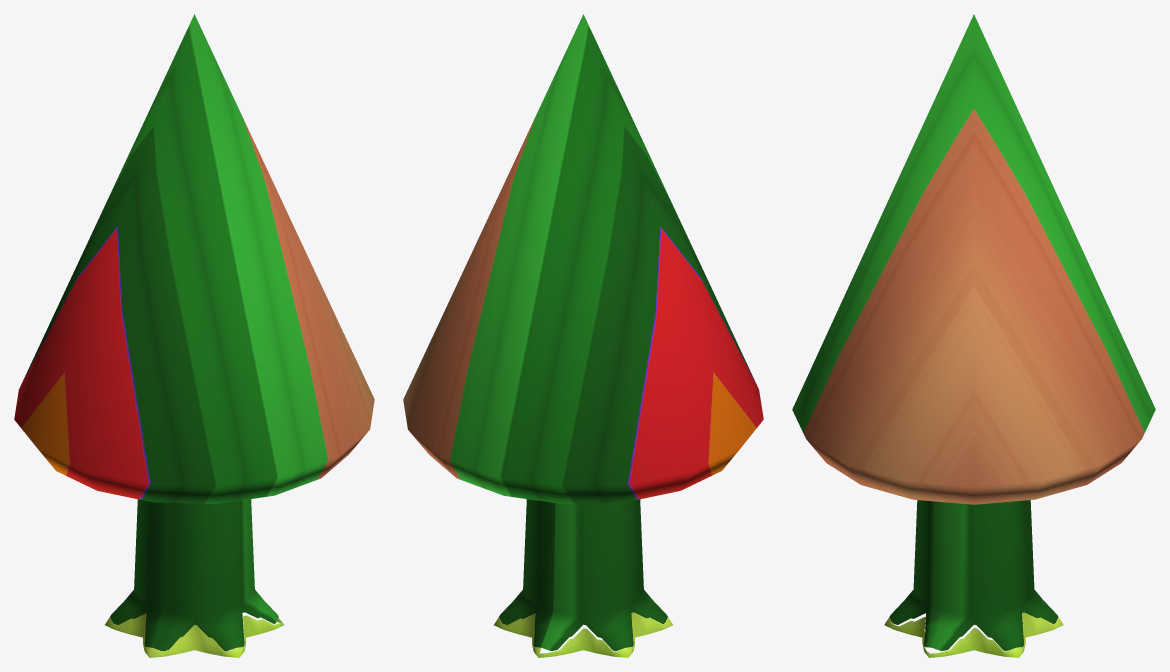
Rendered from Furniture_Plants_36.fbx.
The picture shows the model from 3 angles, left to right: view 1: azimuth 30°, elevation 25°; view 2: azimuth 150°, elevation 25°; view 3: azimuth 270°, elevation 25°; orthographic projection.
Parts seen in each view (by area): view 1: Furniture_Plants_36; view 2: Furniture_Plants_36; view 3: Furniture_Plants_36.
Boxes of the visible parts, bbox=[...] form: Furniture_Plants_36: bbox=[14, 14, 374, 657]; Furniture_Plants_36: bbox=[403, 14, 763, 657]; Furniture_Plants_36: bbox=[792, 14, 1155, 657].
Bounding box in the file's own units: 225 × 417 × 225.
